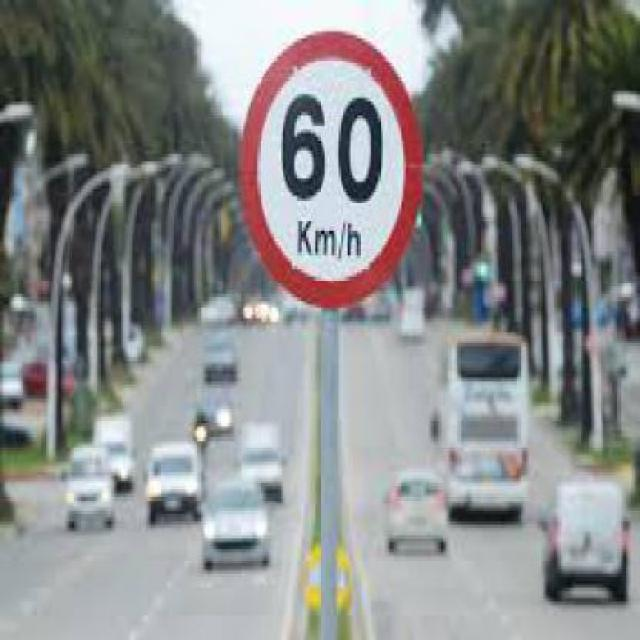Ograniczenie predkosci do 60: (238, 35, 430, 312)
